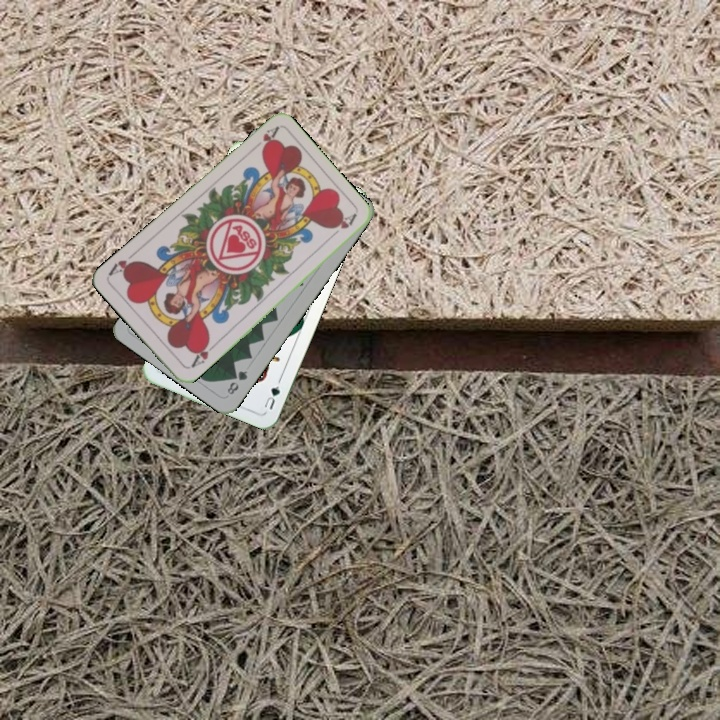G8: (223, 367, 250, 397)
GU: (260, 381, 283, 412)
HA: (186, 336, 219, 371), (257, 123, 281, 155)
